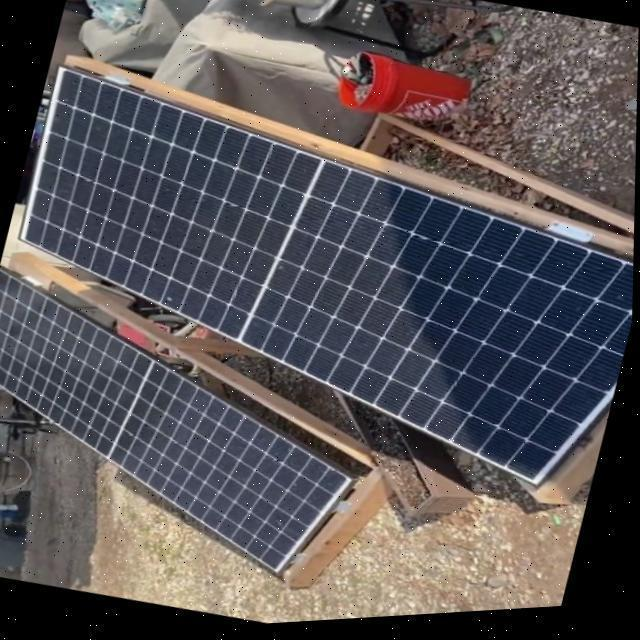Normal Solar Panel: (0, 41, 639, 525), (0, 252, 389, 602)
